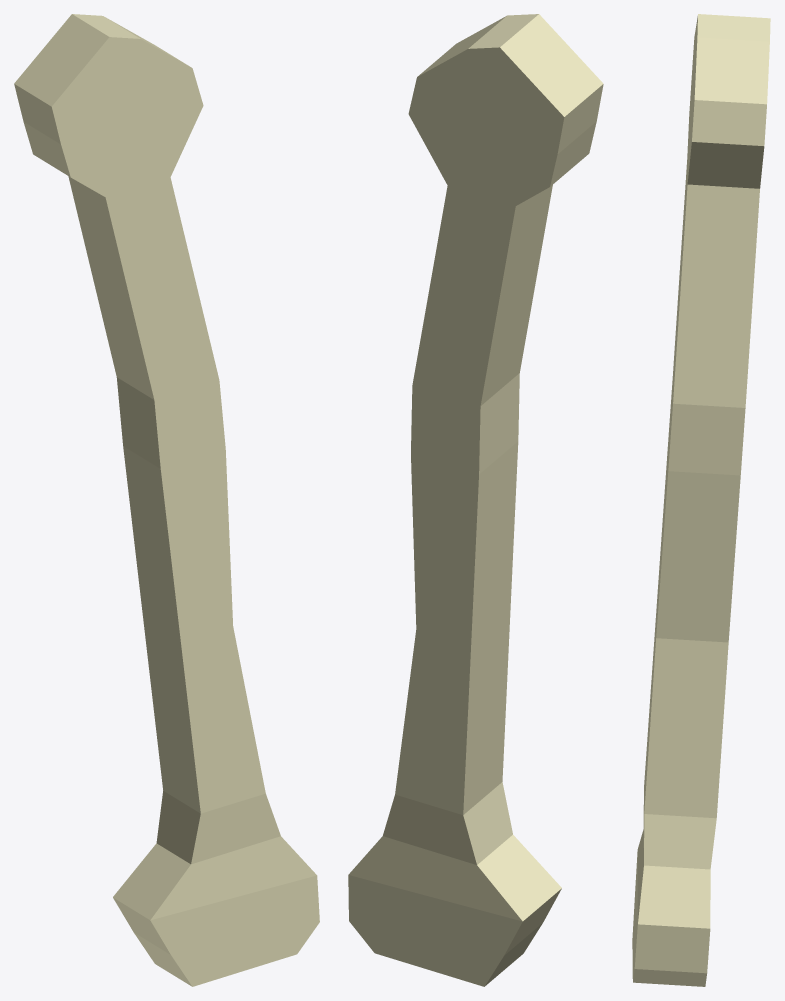
Rendered from skeletonArm.obj.
3 renders of one model, left to right at view 1: azimuth 30°, elevation 25°; view 2: azimuth 150°, elevation 25°; view 3: azimuth 270°, elevation 25°, orthographic. The views are drawn at different scales.
Visible parts, largest first — view 1: Cube.006_Cube.044; view 2: Cube.006_Cube.044; view 3: Cube.006_Cube.044.
Boxes of the visible parts, bbox=[...] form: Cube.006_Cube.044: bbox=[14, 14, 319, 986]; Cube.006_Cube.044: bbox=[348, 14, 603, 986]; Cube.006_Cube.044: bbox=[632, 14, 770, 986].
Size of the model in its own units: 0.1835 by 0.6958 by 0.0961.
Materials: 1 (1 with a texture image).
